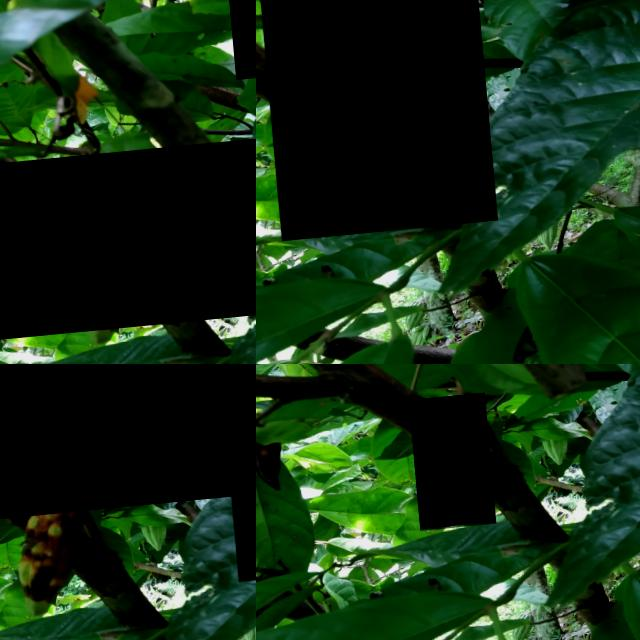Fitoftora: (256, 0, 489, 244), (403, 399, 488, 535)
Monilia: (0, 135, 256, 345), (0, 364, 256, 528)
Sana: (117, 462, 256, 547), (60, 524, 159, 572)
